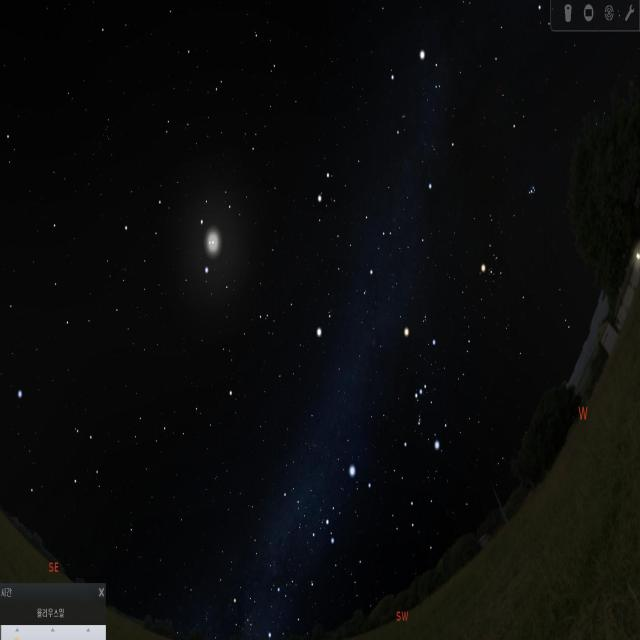canis_major: (326, 460, 380, 550)
canis_minor: (307, 304, 335, 348)
gemini: (312, 158, 403, 304)
leo: (113, 180, 238, 280)
moon: (192, 211, 226, 266)
orion: (399, 318, 448, 466)
pleiades: (524, 176, 544, 209)
taurus: (468, 170, 558, 298)
